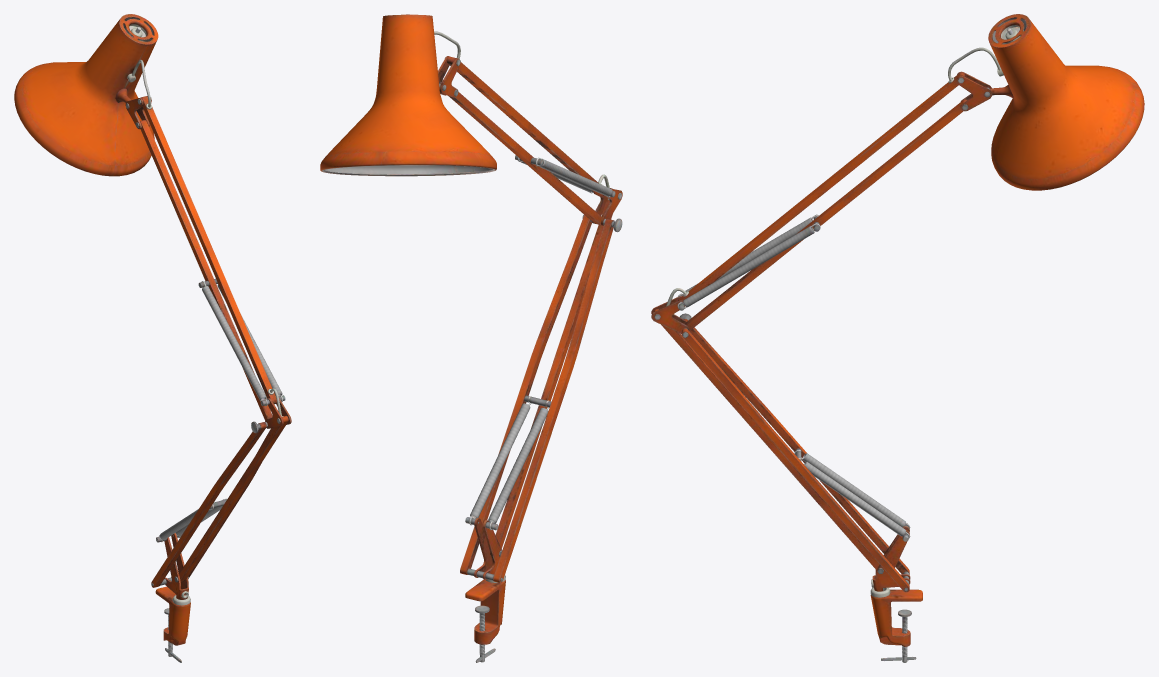
File: desk_lamp_arm_01.glb
The picture shows the model from 3 angles, left to right: view 1: azimuth 30°, elevation 25°; view 2: azimuth 150°, elevation 25°; view 3: azimuth 270°, elevation 25°; orthographic projection. The views are drawn at different scales.
Parts seen in each view (by area): view 1: desk_lamp_arm_01; view 2: desk_lamp_arm_01; view 3: desk_lamp_arm_01.
Boxes of the visible parts, <box> form: desk_lamp_arm_01: <box>14,14,291,662</box>; desk_lamp_arm_01: <box>320,14,622,662</box>; desk_lamp_arm_01: <box>651,14,1144,662</box>.
Bounding box in the file's own units: 0.2018 × 0.8926 × 0.6139.
2 materials, 2 textured.
